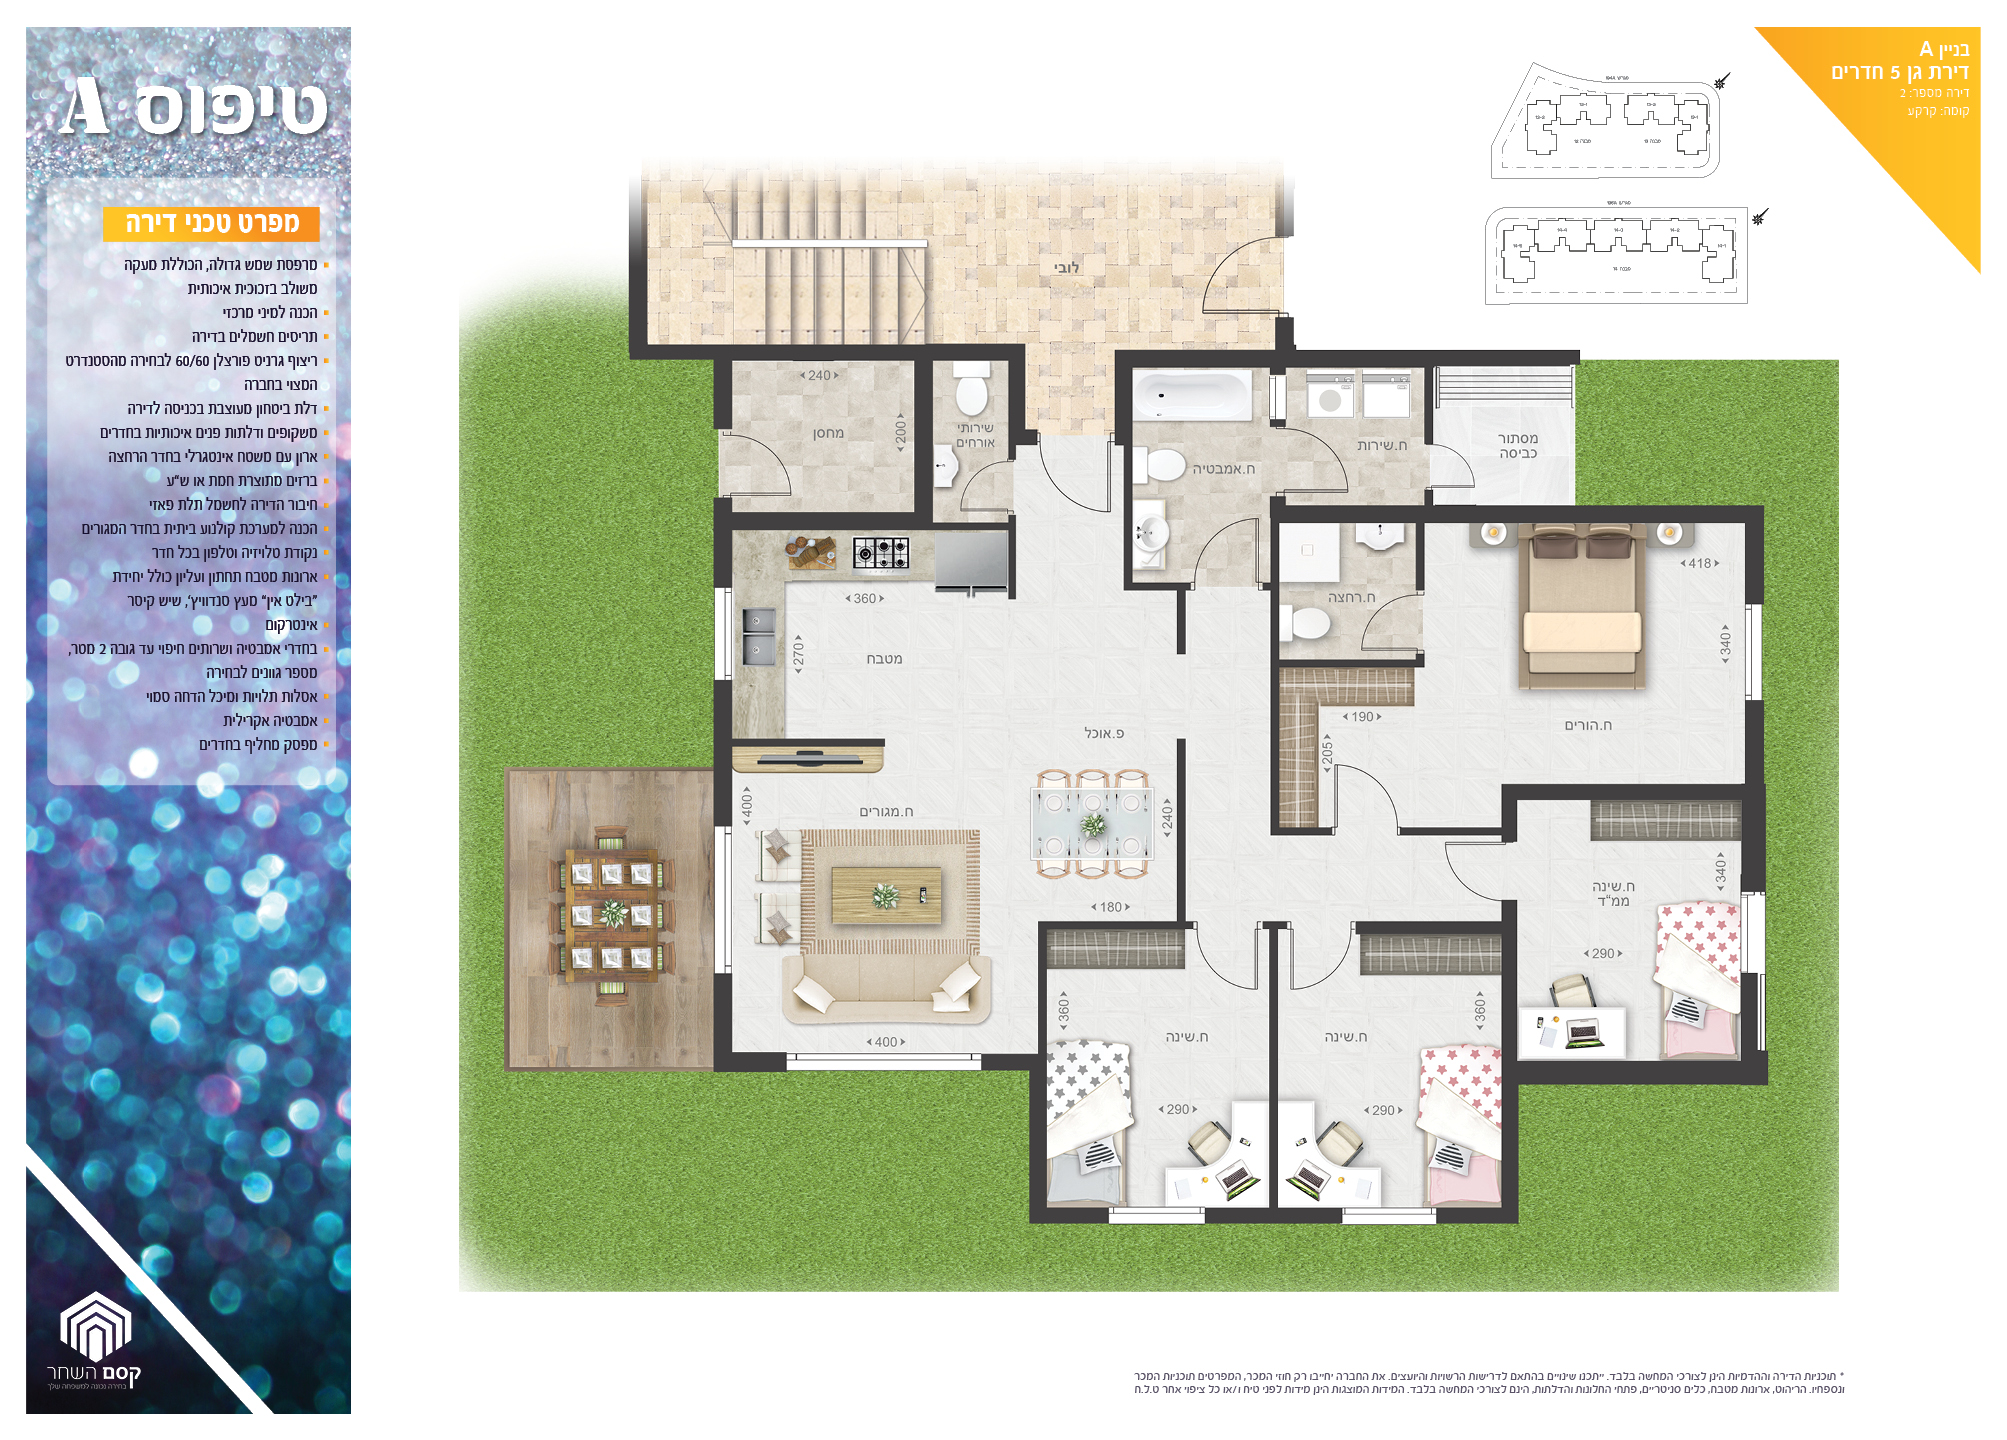door: (1192, 231, 1272, 326), (1030, 458, 1116, 530), (1329, 754, 1402, 820), (1190, 944, 1267, 1007), (1189, 514, 1265, 574), (1349, 586, 1412, 656), (1281, 941, 1354, 999), (743, 430, 801, 502), (1300, 425, 1353, 499), (1438, 840, 1491, 905), (958, 461, 1007, 517), (1438, 432, 1480, 496)
wall: (1267, 506, 1764, 522), (630, 344, 1025, 362), (1515, 1060, 1769, 1086), (1501, 902, 1519, 1226), (1502, 782, 1762, 801), (915, 346, 935, 531), (725, 511, 932, 528), (1028, 1057, 1047, 1226), (1268, 926, 1278, 1220), (714, 683, 732, 826), (1176, 739, 1187, 930), (1205, 1208, 1339, 1223), (1357, 923, 1515, 934), (1747, 506, 1764, 606), (714, 499, 732, 588), (715, 977, 732, 1071), (1272, 583, 1278, 838), (1032, 1206, 1109, 1226), (1116, 351, 1131, 447), (714, 346, 731, 430), (1123, 447, 1133, 591), (725, 1052, 785, 1074), (1010, 348, 1025, 432), (1038, 927, 1047, 1060), (986, 1055, 1046, 1071), (1010, 514, 1016, 600), (1125, 583, 1187, 591)
window: (785, 1054, 982, 1069), (715, 826, 732, 972), (1741, 890, 1765, 976), (714, 588, 732, 678), (1343, 1209, 1437, 1226), (1113, 1209, 1201, 1225)
